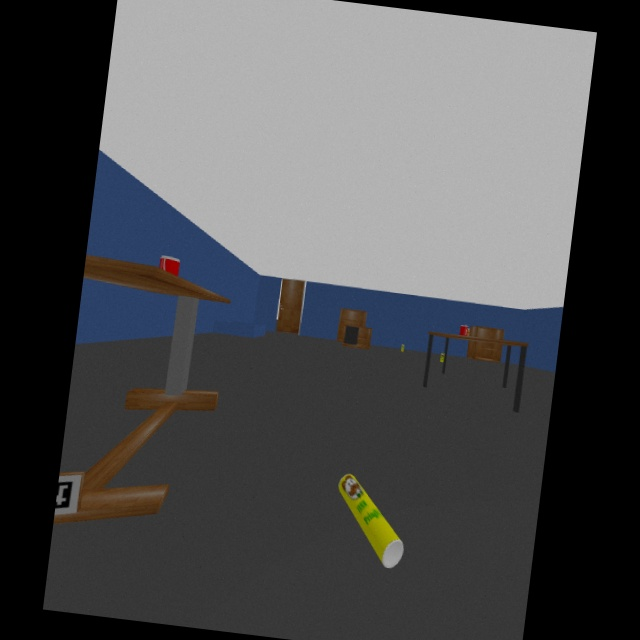chipsdose_gelb: (338, 473, 404, 570)
